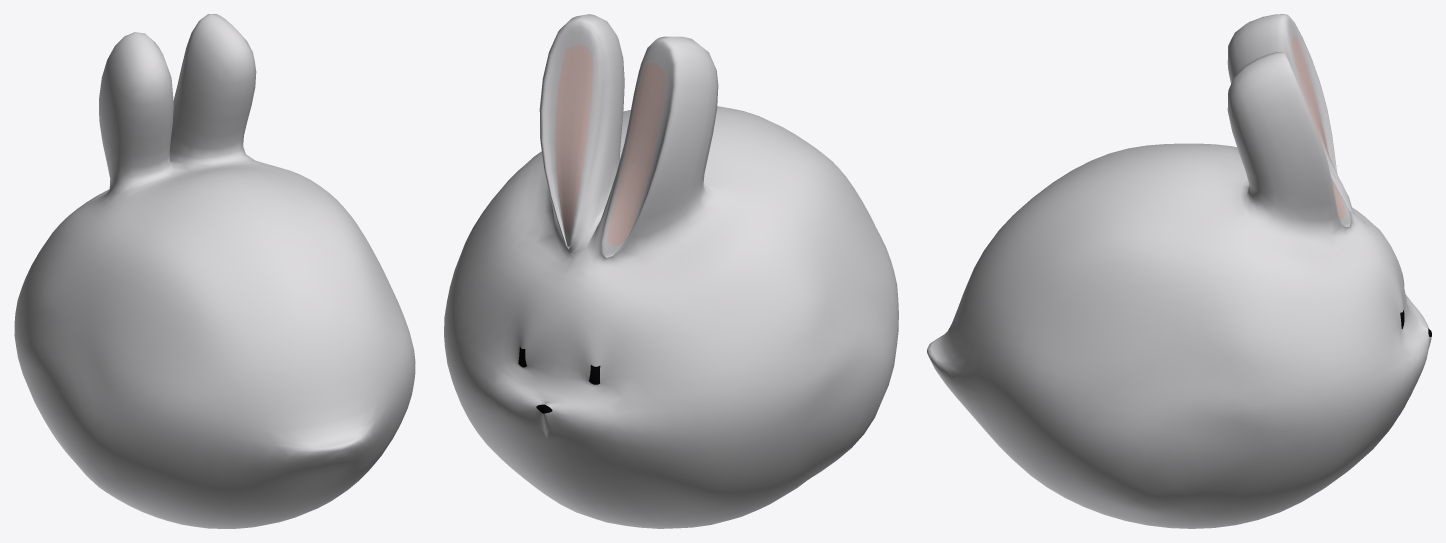
Rendered from prey_plain.glb.
The picture shows the model from 3 angles, left to right: view 1: azimuth 30°, elevation 25°; view 2: azimuth 150°, elevation 25°; view 3: azimuth 270°, elevation 25°; orthographic projection. The views are drawn at different scales.
Visible parts, largest first — view 1: Cube; view 2: Cube; view 3: Cube.
Part boxes in pixels (bbox=[...]): Cube: bbox=[14, 14, 415, 528]; Cube: bbox=[444, 14, 898, 528]; Cube: bbox=[927, 14, 1431, 528].
Bounding box in the file's own units: 4.03 × 5.34 × 5.15.
